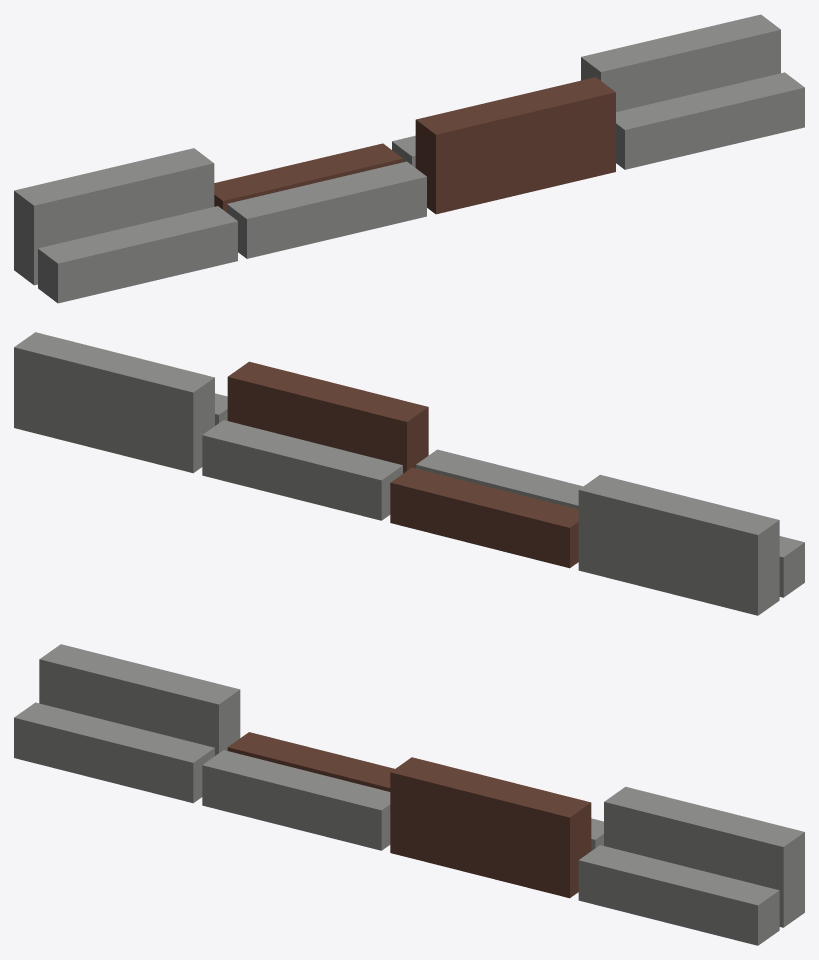
File: sdsc_conteineres.glb
3 renders of one model, top to bottom at view 1: azimuth 30°, elevation 25°; view 2: azimuth 150°, elevation 25°; view 3: azimuth 330°, elevation 25°, orthographic.
Parts seen in each view (by area): view 1: sdsc_conteineres; view 2: sdsc_conteineres; view 3: sdsc_conteineres.
Boxes of the visible parts, <box> form: sdsc_conteineres: <box>14,14,804,303</box>; sdsc_conteineres: <box>14,332,804,615</box>; sdsc_conteineres: <box>14,644,804,945</box>.
Size of the model in its own units: 50.67 by 5.2 by 6.09.
